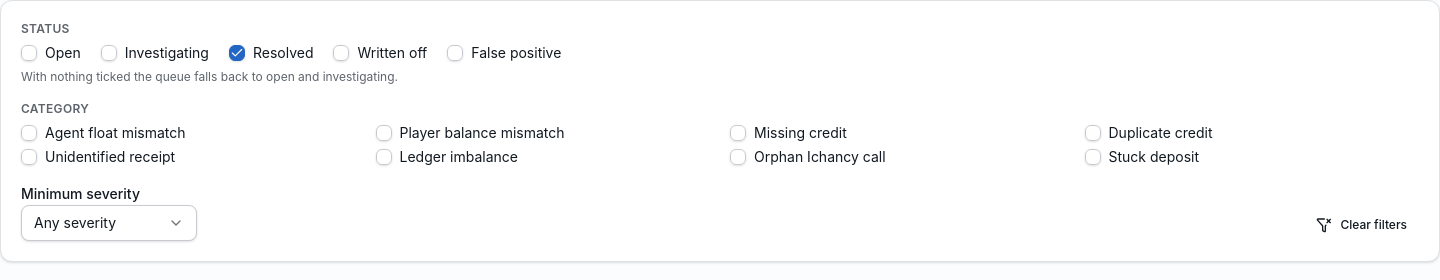
Test: BreakFilters › falls back to the default pair when the last status is unticked
Click the checkbox named "Resolved" next to "Resolved" at (237, 53), box left=229, top=45, right=245, bottom=61
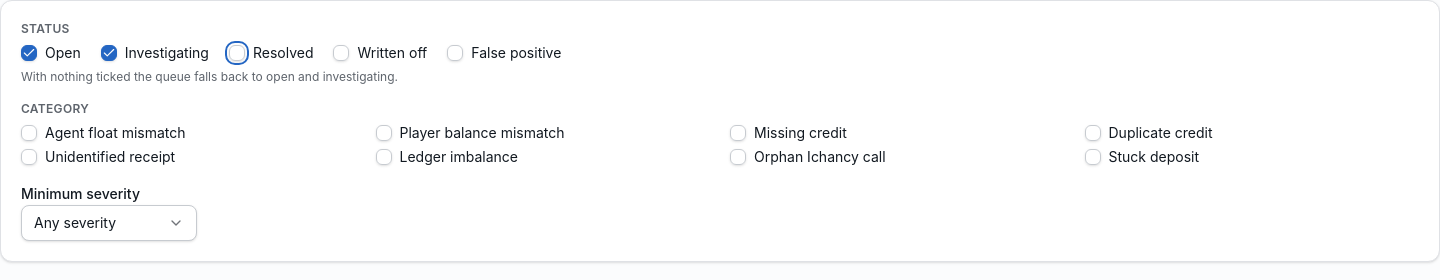
Expected: the 1st checkbox named "Open" is checked, left=21, top=45, right=37, bottom=61
Expected: the 2nd checkbox named "Investigating" is checked, left=101, top=45, right=117, bottom=61
